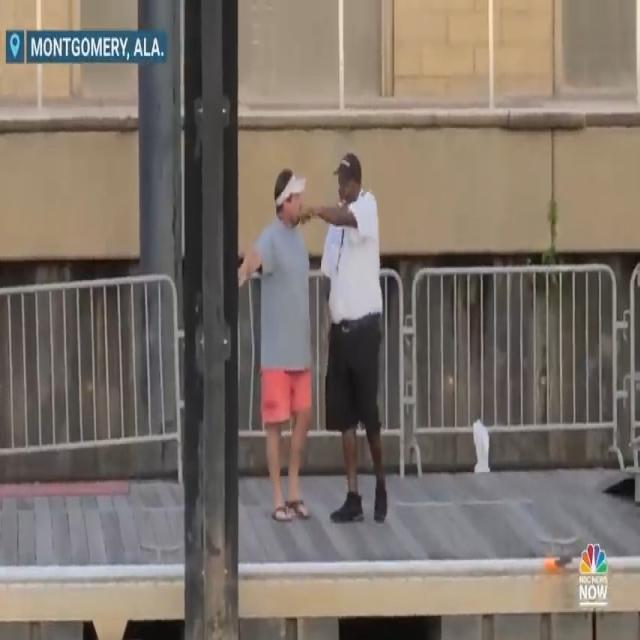non-fight: (240, 150, 394, 529)
